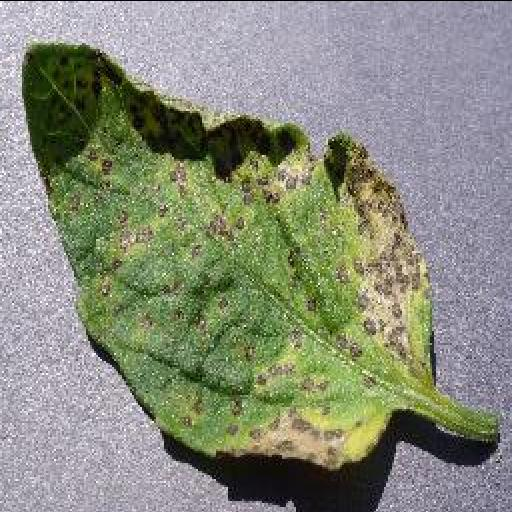disease_tomato: (18, 40, 436, 468)
